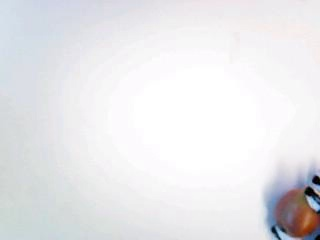apple: (274, 182, 320, 235)
